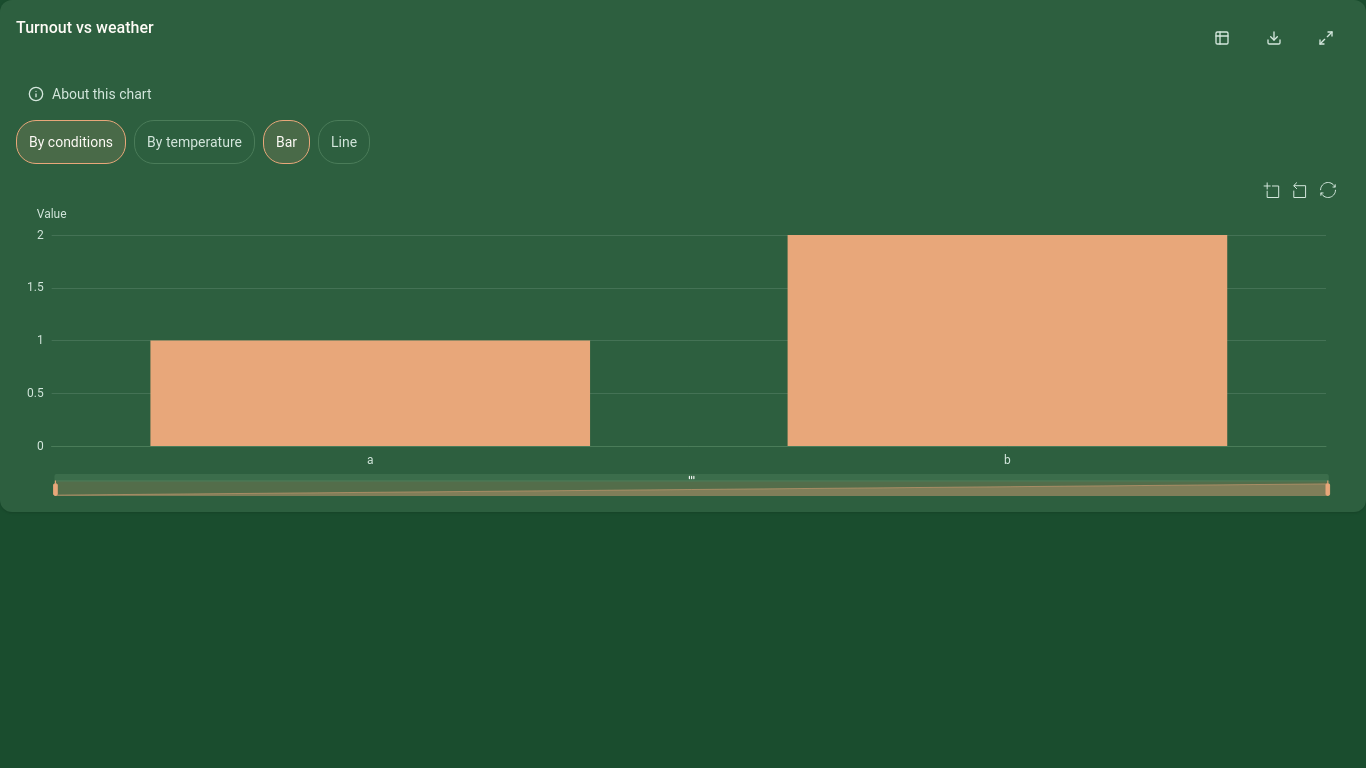
ChartCard › passes its explainer to the frame
This screenshot has width=1366, height=768.
Expected: the picture named "Turnout vs weather" is shown, [16, 176, 1350, 496]
Click the button "About this chart". click: (90,94)
box: [16, 72, 164, 116]
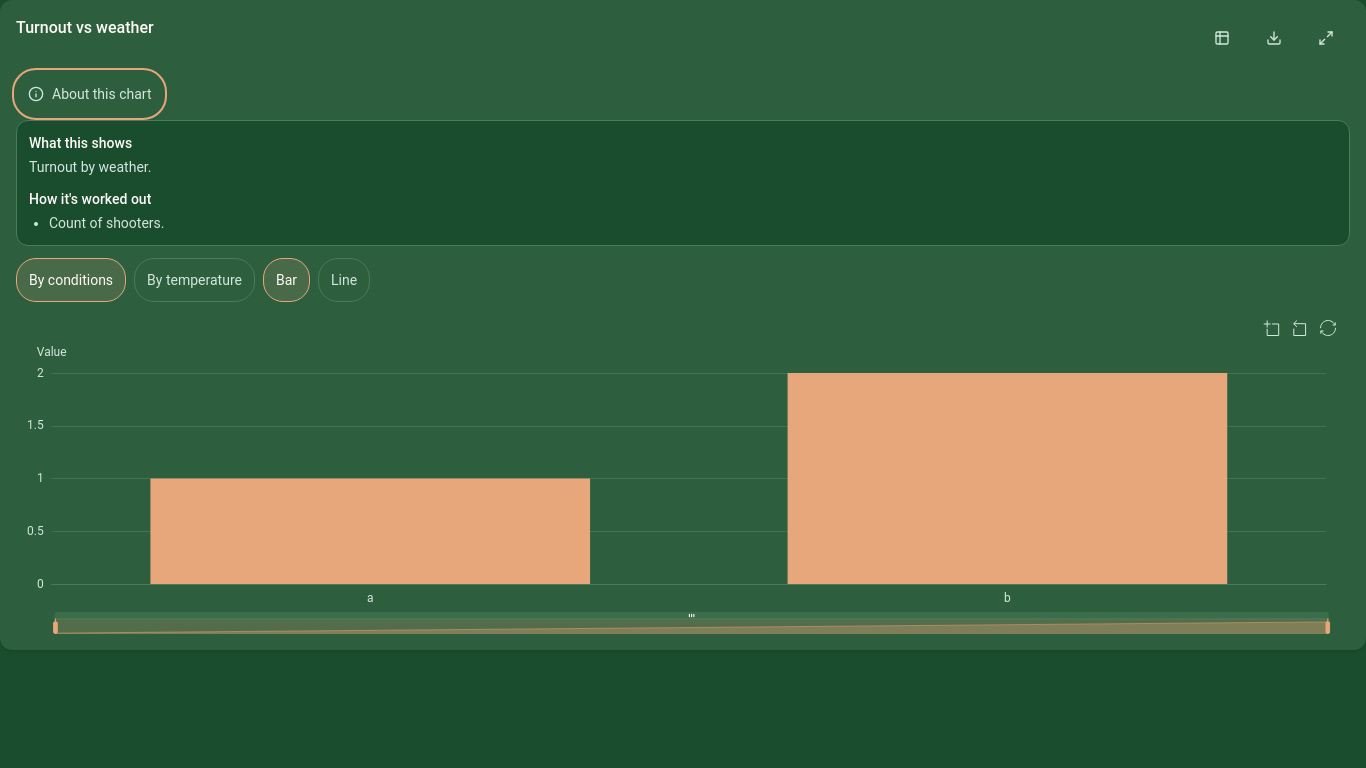
Now the button "About this chart" is expanded
Now the heading "What this shows" is shown, box [29, 135, 132, 151]
Now the heading "How it's worked out" is shown, box [29, 191, 151, 207]
Click the button "About this chart". click: (90,94)
box: [16, 72, 164, 116]
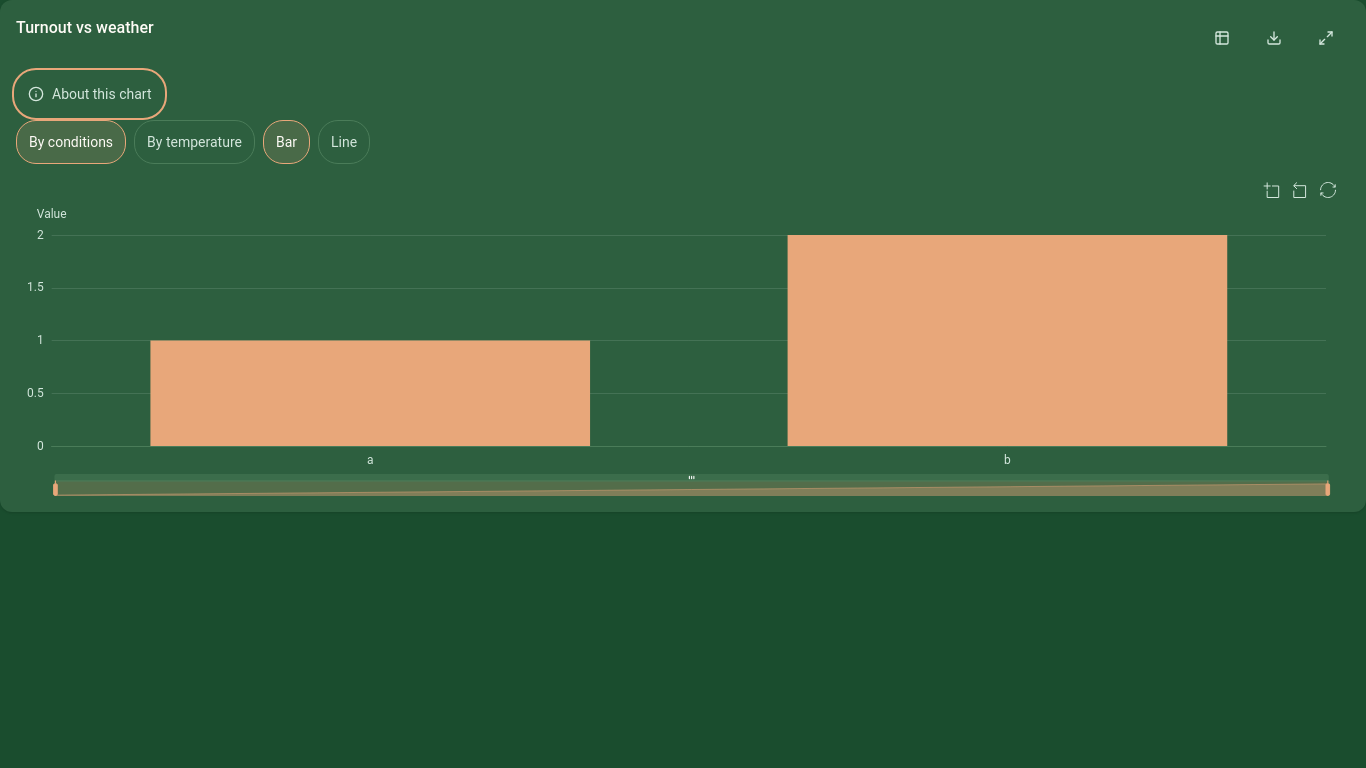
Now the heading "What this shows" is gone
